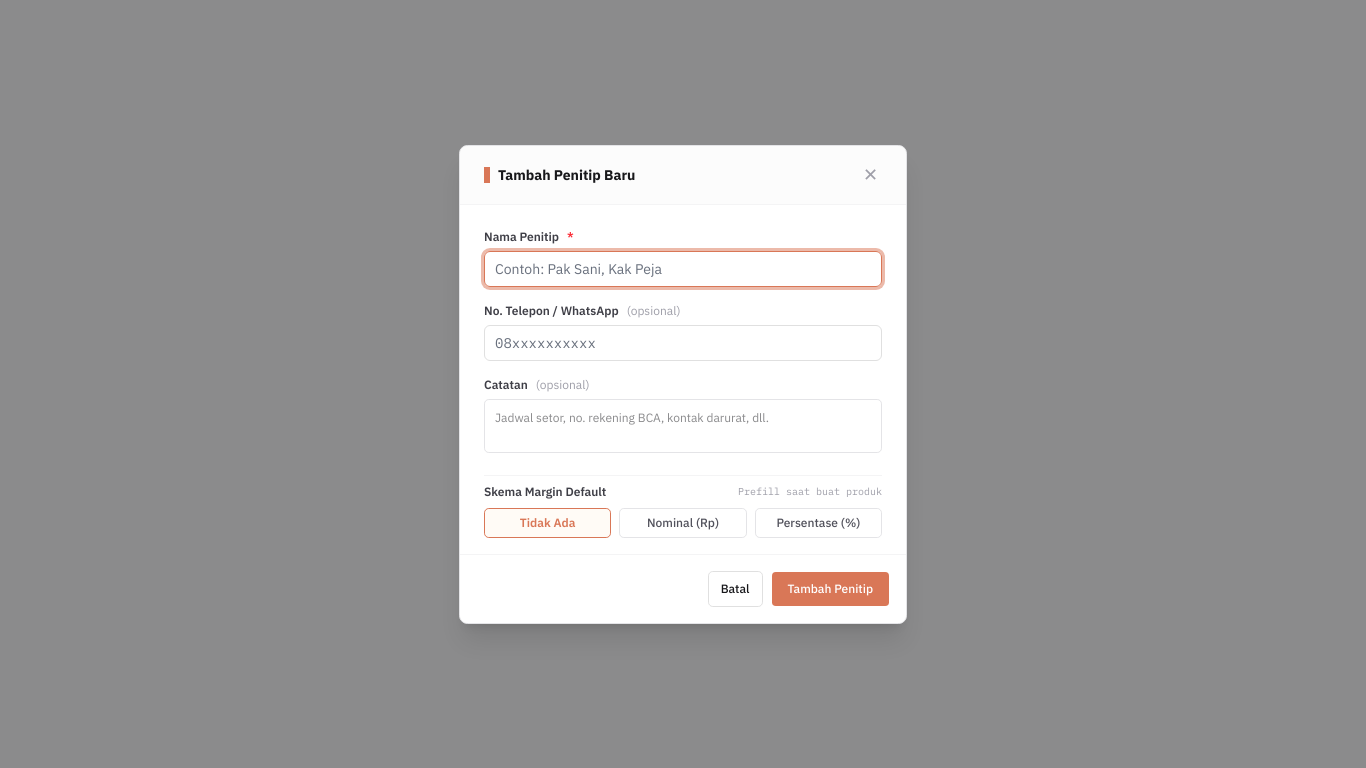
Scenario: ConsignorDialog › shows validation error when submitting empty name
What coordinates should you click on to do the following:
click the button "Tambah Penitip"
I would click on:
 (830, 588)
Its box is 770,570 -> 890,606.
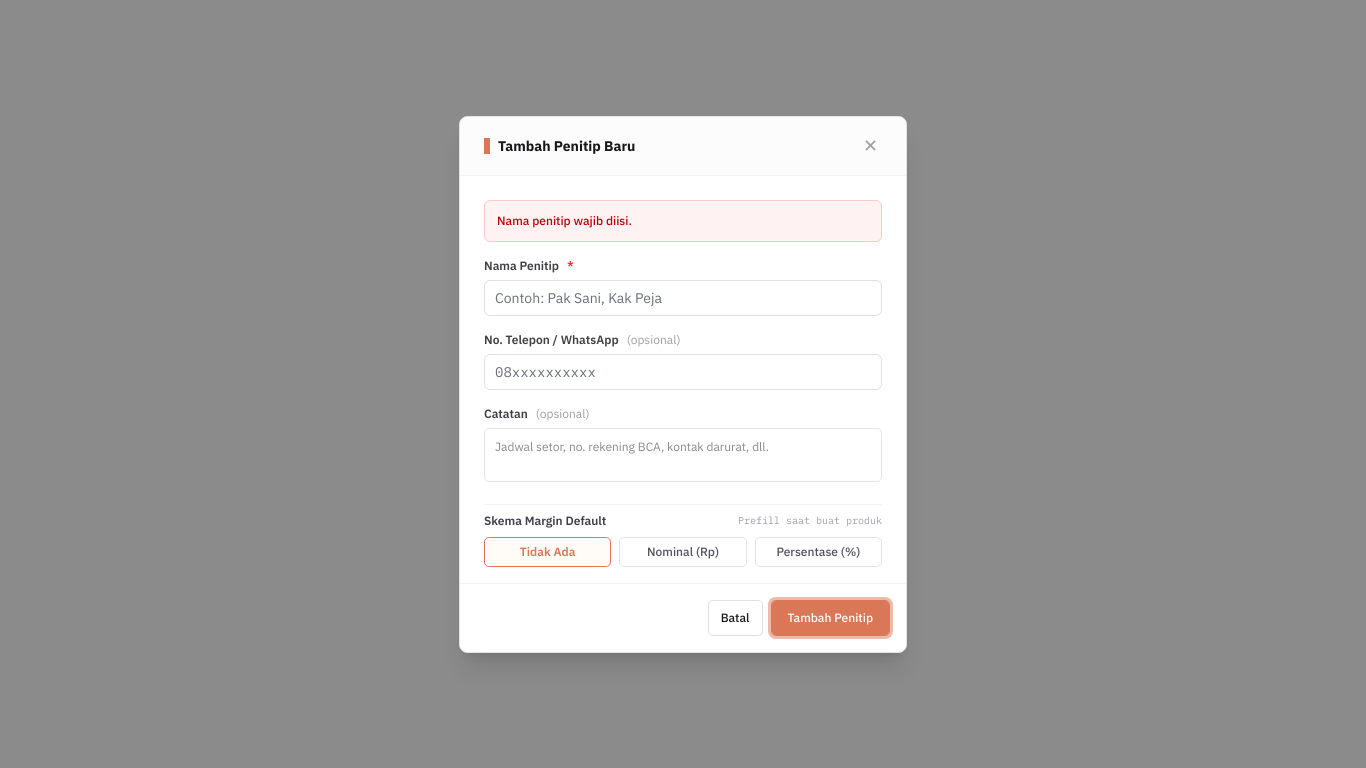
Now the text "Nama penitip wajib diisi." is shown, box 484,200 -> 882,242
